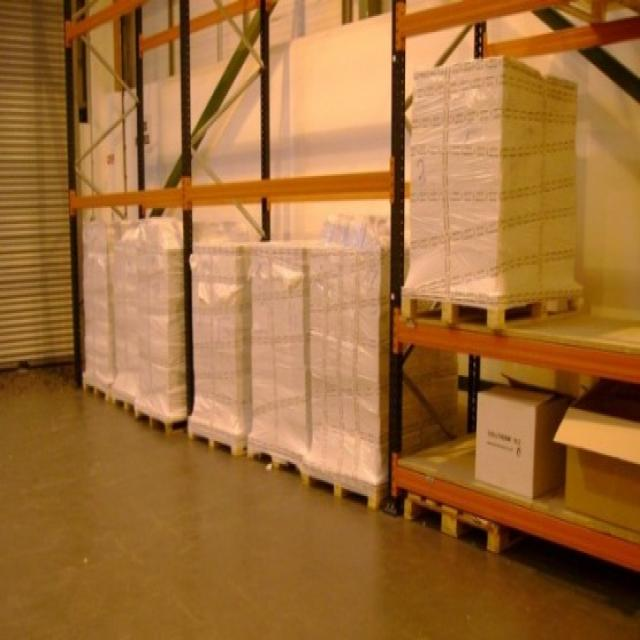box: (398, 82, 576, 316), (312, 243, 390, 465), (560, 401, 640, 522), (473, 390, 562, 488)
